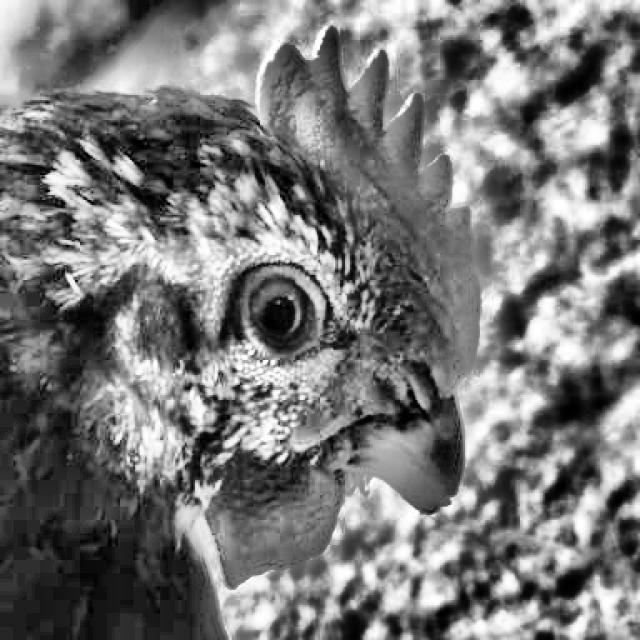Healthy: (192, 256, 355, 386)
